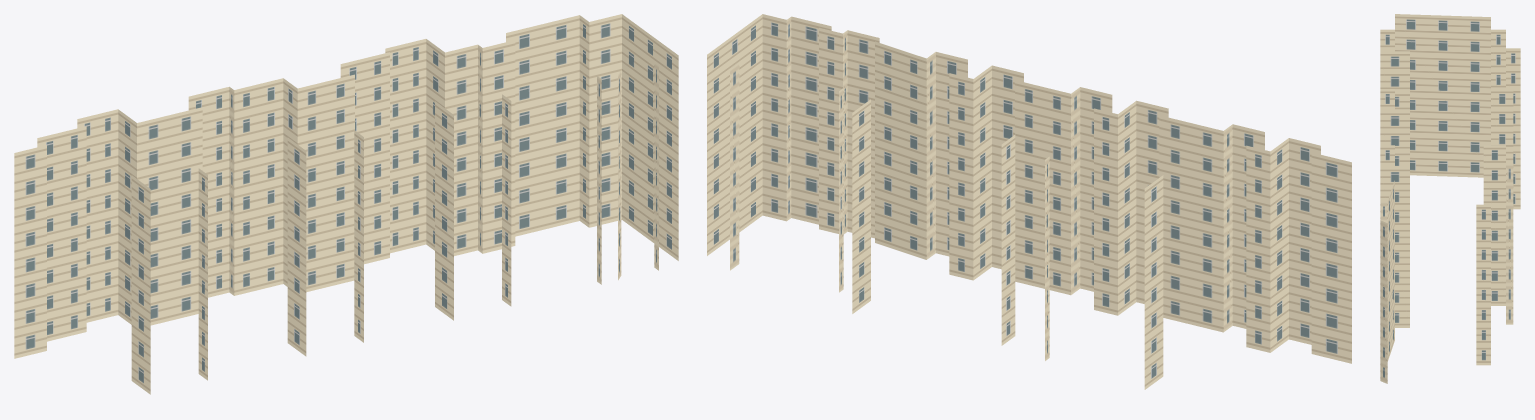
The picture shows the model from 3 angles, left to right: view 1: azimuth 30°, elevation 25°; view 2: azimuth 150°, elevation 25°; view 3: azimuth 270°, elevation 25°; orthographic projection. The views are drawn at different scales.
Size of the model in its own units: 74 by 24 by 19.
2 materials, 1 textured.
